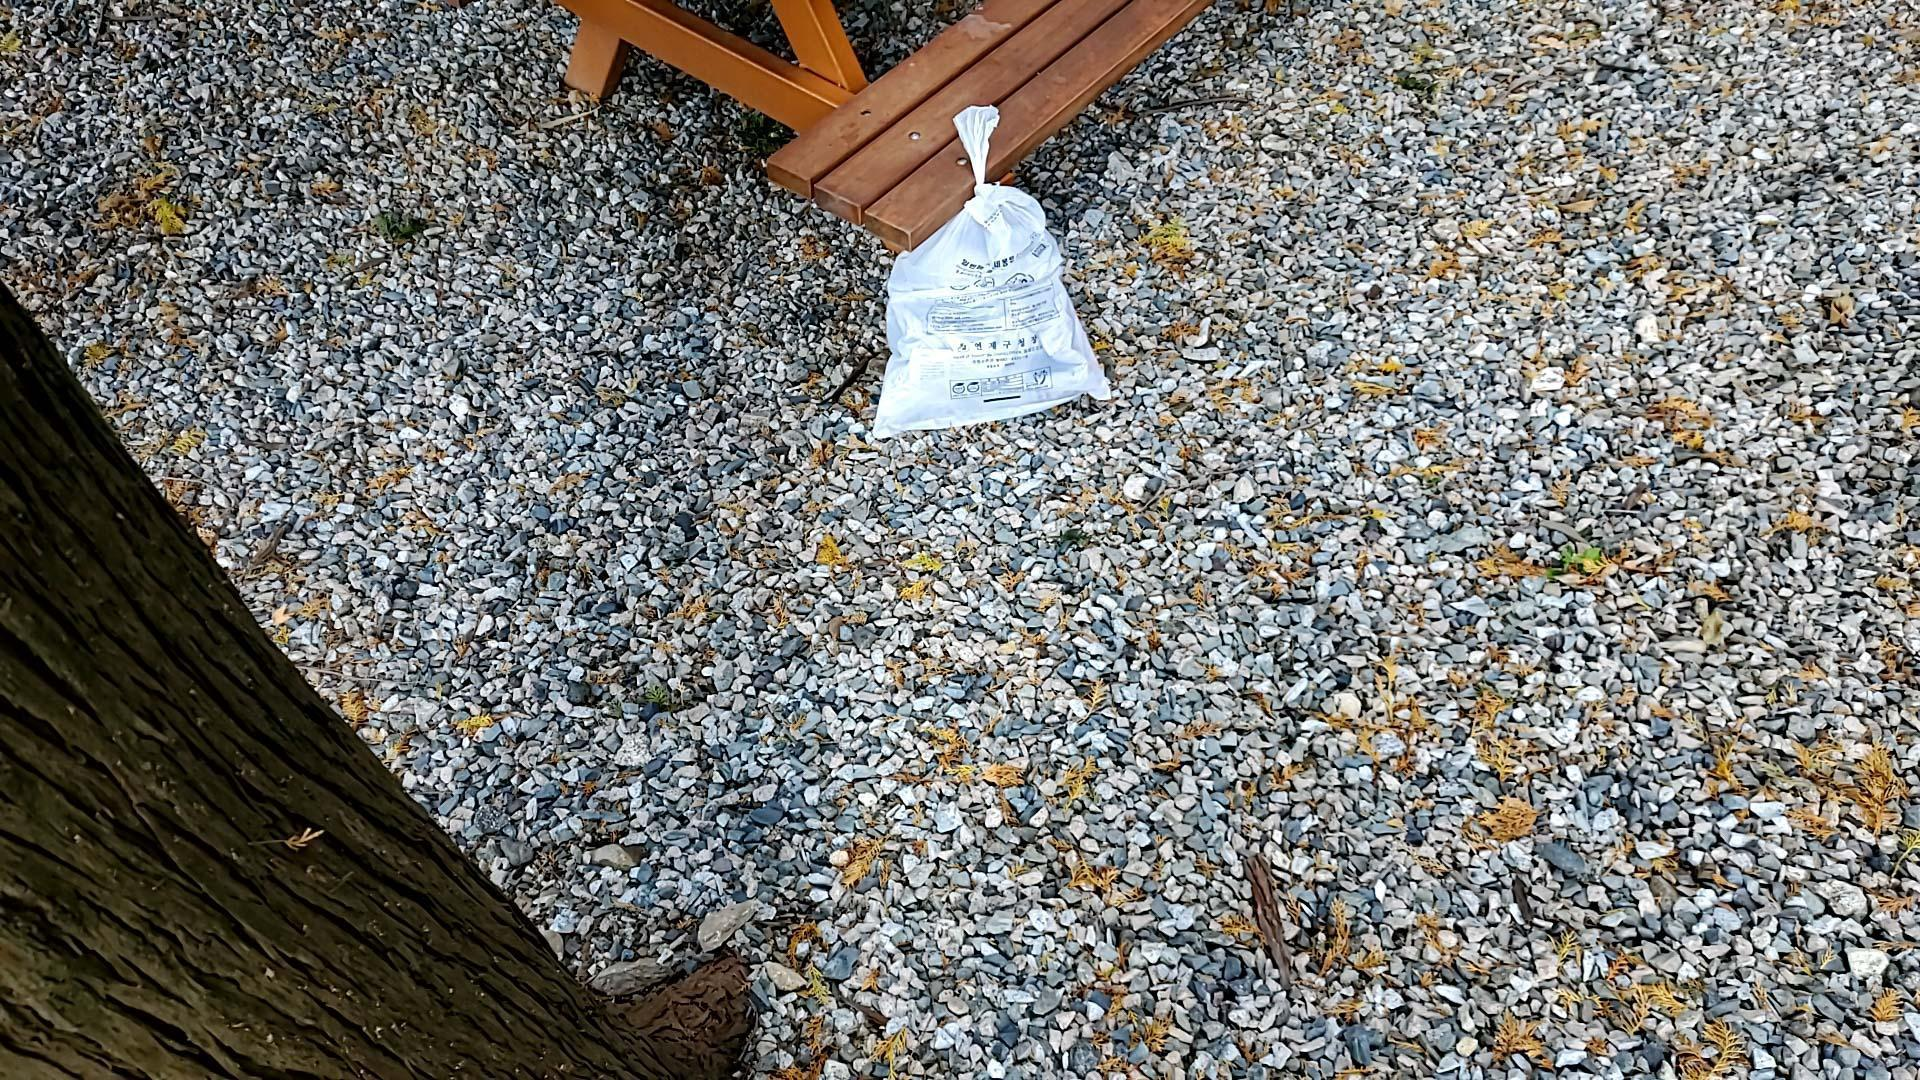white_bag: (855, 88, 1145, 442)
